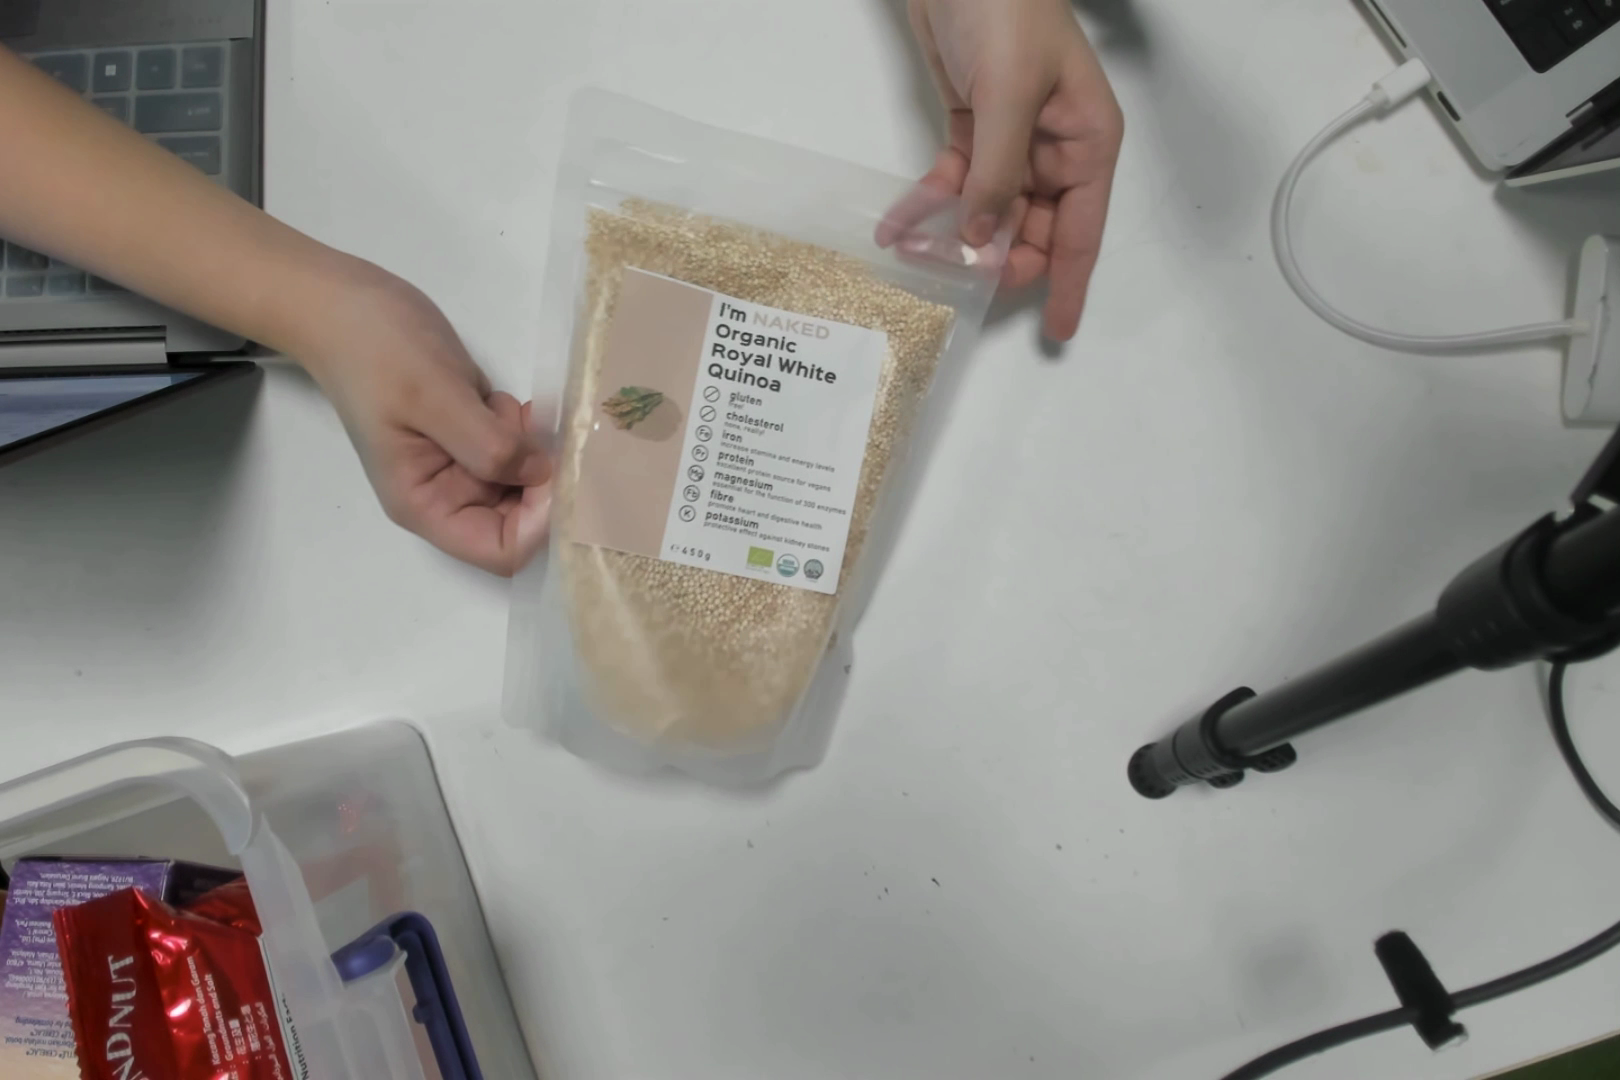Rice(brown-others)_400-499g_Halal_NonHealthy: (556, 202, 899, 715)
